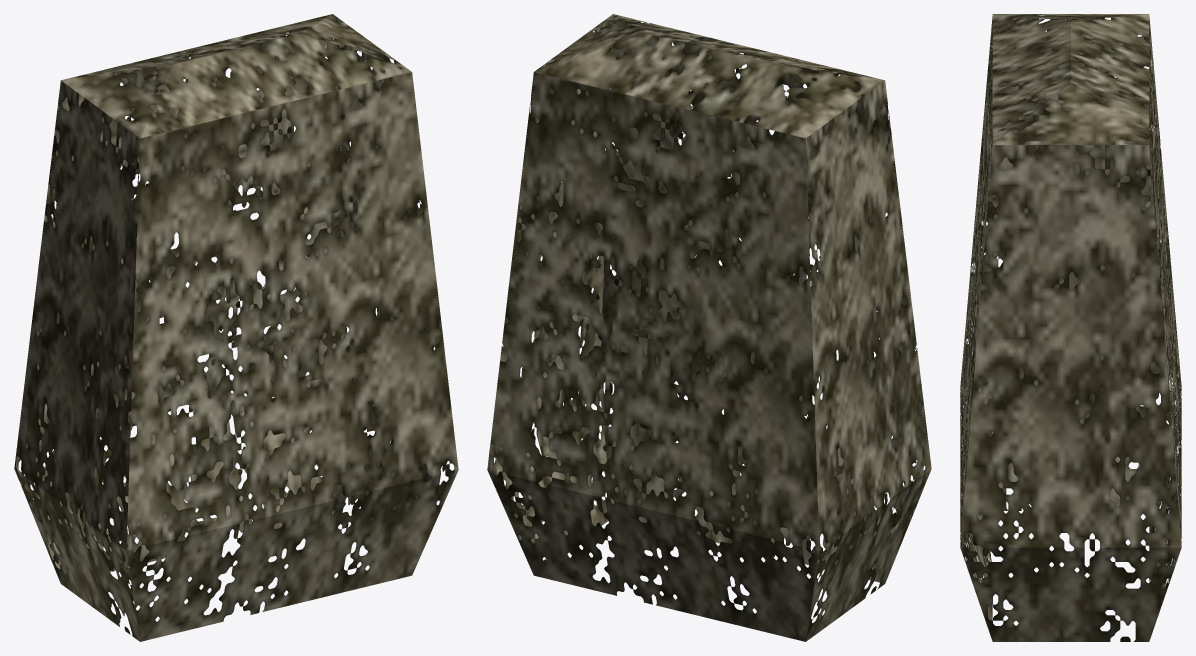
The model's file is bush_tall_half_single_dead.fbx.
3 renders of one model, left to right at view 1: azimuth 30°, elevation 25°; view 2: azimuth 150°, elevation 25°; view 3: azimuth 270°, elevation 25°, orthographic.
Parts seen in each view (by area): view 1: bush_tall_half_single_dead; view 2: bush_tall_half_single_dead; view 3: bush_tall_half_single_dead.
Boxes of the visible parts, box(x1,y1,x2,y2) form: bush_tall_half_single_dead: box(14, 14, 458, 641); bush_tall_half_single_dead: box(487, 14, 931, 641); bush_tall_half_single_dead: box(960, 14, 1181, 641).
Bounding box in the file's own units: 123 × 188 × 71.91.
Materials: 1 (1 with a texture image).
